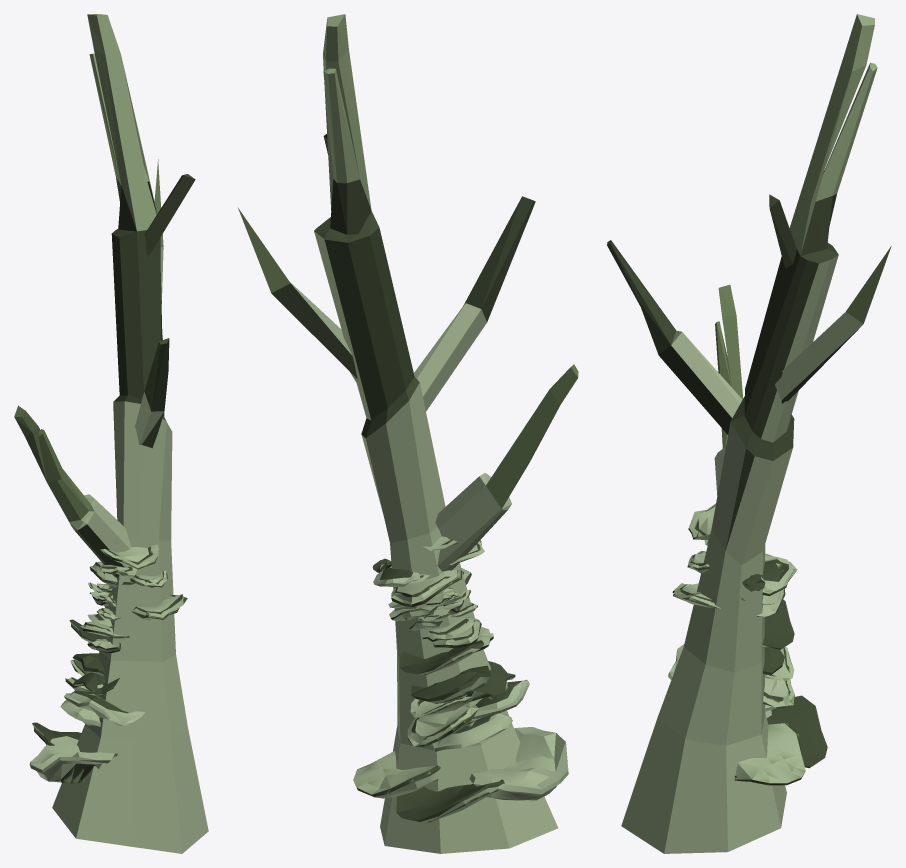
Rendered from EA_Swamp_BrokenTree_01b.glb.
The picture shows the model from 3 angles, left to right: view 1: azimuth 30°, elevation 25°; view 2: azimuth 150°, elevation 25°; view 3: azimuth 270°, elevation 25°; orthographic projection. The views are drawn at different scales.
Parts seen in each view (by area): view 1: EA_Swamp_BrokenTree_01b; view 2: EA_Swamp_BrokenTree_01b; view 3: EA_Swamp_BrokenTree_01b.
Boxes of the visible parts, x1,y1,x2,y2 form: EA_Swamp_BrokenTree_01b: (14,14,208,853); EA_Swamp_BrokenTree_01b: (238,14,578,853); EA_Swamp_BrokenTree_01b: (607,14,891,853).
Size of the model in its own units: 2.73 by 9.01 by 2.81.
Materials: 1 (1 with a texture image).
